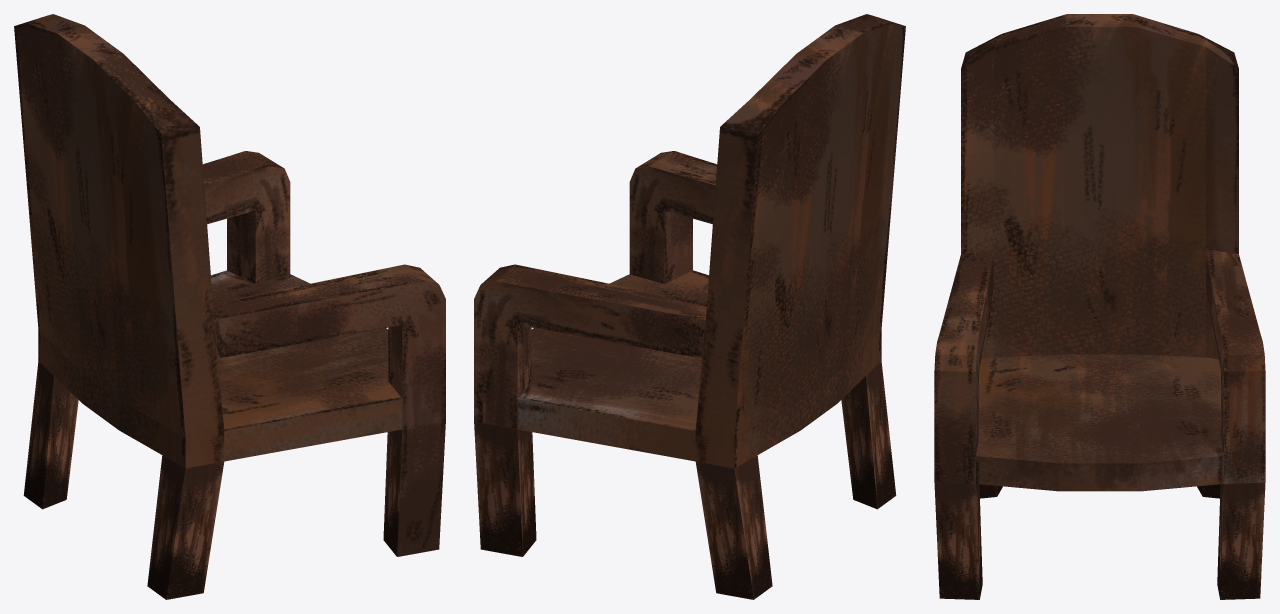
File: Chair02.fbx
The picture shows the model from 3 angles, left to right: view 1: azimuth 30°, elevation 25°; view 2: azimuth 150°, elevation 25°; view 3: azimuth 270°, elevation 25°; orthographic projection. The views are drawn at different scales.
Visible parts, largest first — view 1: Chair02; view 2: Chair02; view 3: Chair02.
Boxes of the visible parts, x1,y1,x2,y2 form: Chair02: (14,14,445,599); Chair02: (474,14,905,599); Chair02: (934,14,1265,599).
Bounding box in the file's own units: 0.5603 × 0.9041 × 0.5875.
1 material, 1 textured.
